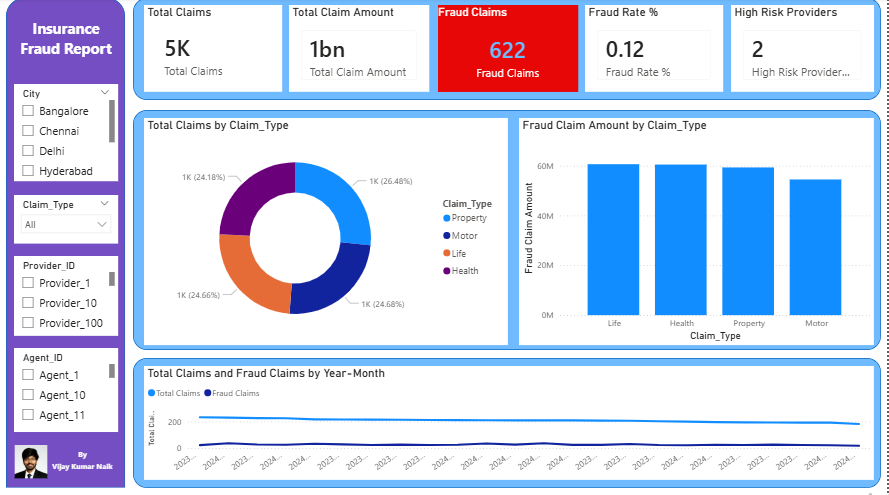

Layout of this report page (visuals, bound fields, positions):
{"tool":"powerbi","page":{"name":"EXECUTIVE FRAUD OVERVIEW","canvas":[1280,720],"ordinal":0},"visuals":[{"type":"shape","box":[193,0,1077.1,146.9],"z":0},{"type":"cardVisual","title":"Total Claims","fields":{"Data":["Insurance_Fraud_Network_Dataset_5000_Leads.Total Claims"]},"box":[208.8,10.1,198.7,125.3],"z":1000},{"type":"cardVisual","title":"Total Claim Amount","fields":{"Data":["Insurance_Fraud_Network_Dataset_5000_Leads.Total Claim Amount"]},"box":[417.6,10.1,201.6,125.3],"z":2000},{"type":"cardVisual","title":"Fraud Claims","fields":{"Data":["Insurance_Fraud_Network_Dataset_5000_Leads.Fraud Claims"]},"box":[632.2,10.1,201.6,125.3],"z":3000},{"type":"cardVisual","title":"Fraud Rate %","fields":{"Data":["Insurance_Fraud_Network_Dataset_5000_Leads.Fraud Rate %"]},"box":[843.8,10.1,198.7,125.3],"z":4000},{"type":"cardVisual","title":"High Risk Providers","fields":{"Data":["Insurance_Fraud_Network_Dataset_5000_Leads.High Risk Providers Count"]},"box":[1054.1,10.1,205.9,125.3],"z":5000},{"type":"shape","box":[193,161.3,1077.1,345.6],"z":6000},{"type":"shape","box":[193,518.4,1077.1,187.2],"z":7000},{"type":"donutChart","fields":{"Category":["Insurance_Fraud_Network_Dataset_5000_Leads.Claim_Type"],"Y":["Insurance_Fraud_Network_Dataset_5000_Leads.Total Claims"]},"box":[208.8,172.8,524.2,326.9],"z":8000},{"type":"clusteredColumnChart","fields":{"Category":["Insurance_Fraud_Network_Dataset_5000_Leads.Claim_Type"],"Y":["Insurance_Fraud_Network_Dataset_5000_Leads.Fraud Claim Amount"]},"box":[748.8,172.8,511.2,326.9],"z":9000},{"type":"lineChart","fields":{"Category":["Dim_Date.Year-Month"],"Y":["Insurance_Fraud_Network_Dataset_5000_Leads.Total Claims","Insurance_Fraud_Network_Dataset_5000_Leads.Fraud Claims"]},"box":[208.8,529.9,1051.2,164.2],"z":10000},{"type":"shape","box":[10.3,0,171.5,705.2],"z":11000},{"type":"slicer","fields":{"Values":["Insurance_Fraud_Network_Dataset_5000_Leads.City"]},"box":[21.6,123.8,149.8,139.7],"z":12000},{"type":"slicer","fields":{"Values":["Insurance_Fraud_Network_Dataset_5000_Leads.Claim_Type"]},"box":[22,283,149.6,70.4],"z":13000},{"type":"slicer","fields":{"Values":["Insurance_Fraud_Network_Dataset_5000_Leads.Provider_ID"]},"box":[21.6,371.5,149.8,115.2],"z":14000},{"type":"slicer","fields":{"Values":["Insurance_Fraud_Network_Dataset_5000_Leads.Agent_ID"]},"box":[21.6,504,149.8,121],"z":15000},{"type":"textbox","box":[21.6,24.5,149.8,74.9],"z":15001},{"type":"textbox","box":[69.1,642.2,102.2,51.8],"z":15002},{"type":"image","box":[21.6,643.7,49,47.5],"z":15003}]}

Visuals, with their boxes in screenshot pixels (x1, y1, x2, y2), scaled from the page's 1280x720 canvas onto the 889x495 screenshot:
shape: <region>134, 0, 882, 101</region>
"Total Claims" cardVisual: <region>145, 7, 283, 93</region>
"Total Claim Amount" cardVisual: <region>290, 7, 430, 93</region>
"Fraud Claims" cardVisual: <region>439, 7, 579, 93</region>
"Fraud Rate %" cardVisual: <region>586, 7, 724, 93</region>
"High Risk Providers" cardVisual: <region>732, 7, 875, 93</region>
shape: <region>134, 111, 882, 348</region>
shape: <region>134, 356, 882, 485</region>
donutChart - Insurance_Fraud_Network_Dataset_5000_Leads.Claim_Type x Insurance_Fraud_Network_Dataset_5000_Leads.Total Claims: <region>145, 119, 509, 344</region>
clusteredColumnChart - Insurance_Fraud_Network_Dataset_5000_Leads.Claim_Type x Insurance_Fraud_Network_Dataset_5000_Leads.Fraud Claim Amount: <region>520, 119, 875, 344</region>
lineChart - Dim_Date.Year-Month x Insurance_Fraud_Network_Dataset_5000_Leads.Total Claims: <region>145, 364, 875, 477</region>
shape: <region>7, 0, 126, 485</region>
slicer - Insurance_Fraud_Network_Dataset_5000_Leads.City: <region>15, 85, 119, 181</region>
slicer - Insurance_Fraud_Network_Dataset_5000_Leads.Claim_Type: <region>15, 195, 119, 243</region>
slicer - Insurance_Fraud_Network_Dataset_5000_Leads.Provider_ID: <region>15, 255, 119, 335</region>
slicer - Insurance_Fraud_Network_Dataset_5000_Leads.Agent_ID: <region>15, 346, 119, 430</region>
textbox: <region>15, 17, 119, 68</region>
textbox: <region>48, 442, 119, 477</region>
image: <region>15, 443, 49, 475</region>
